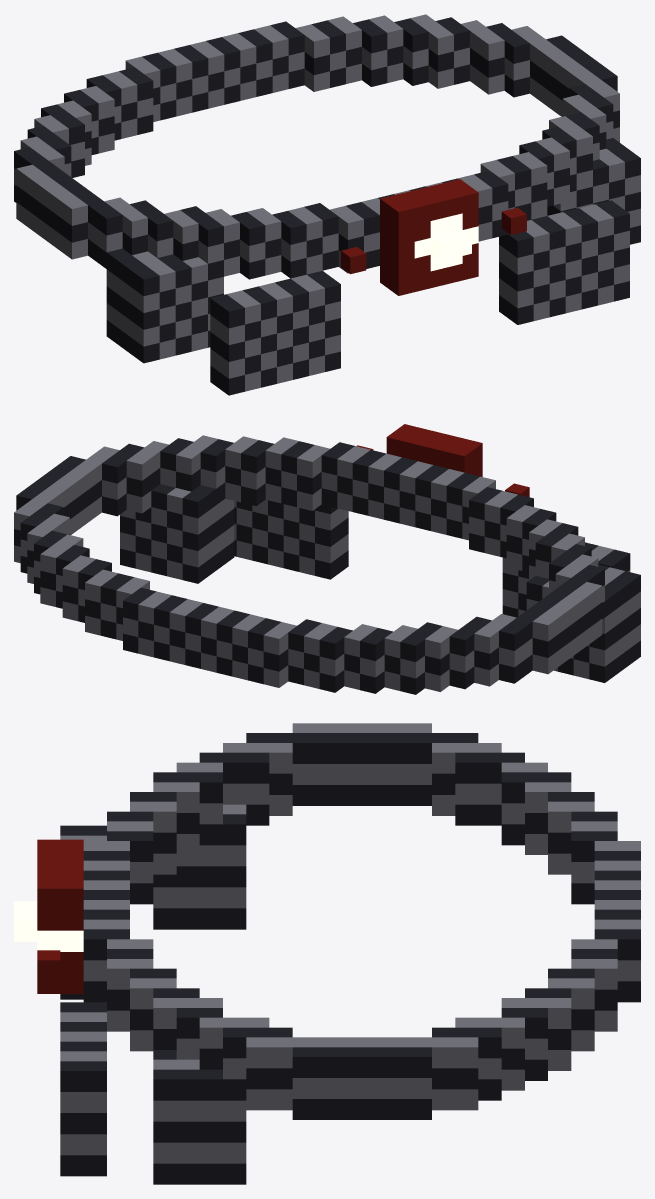
File: chain_masterwork_belt.glb
The picture shows the model from 3 angles, top to bottom: view 1: azimuth 30°, elevation 25°; view 2: azimuth 150°, elevation 25°; view 3: azimuth 270°, elevation 25°; orthographic projection. The views are drawn at different scales.
Visible parts, largest first — view 1: chain_masterwork_belt; view 2: chain_masterwork_belt; view 3: chain_masterwork_belt.
Boxes of the visible parts, bbox=[...] form: chain_masterwork_belt: bbox=[14, 14, 640, 395]; chain_masterwork_belt: bbox=[14, 424, 640, 694]; chain_masterwork_belt: bbox=[14, 723, 640, 1184].
Size of the model in its own units: 0.408 by 0.108 by 0.324.
